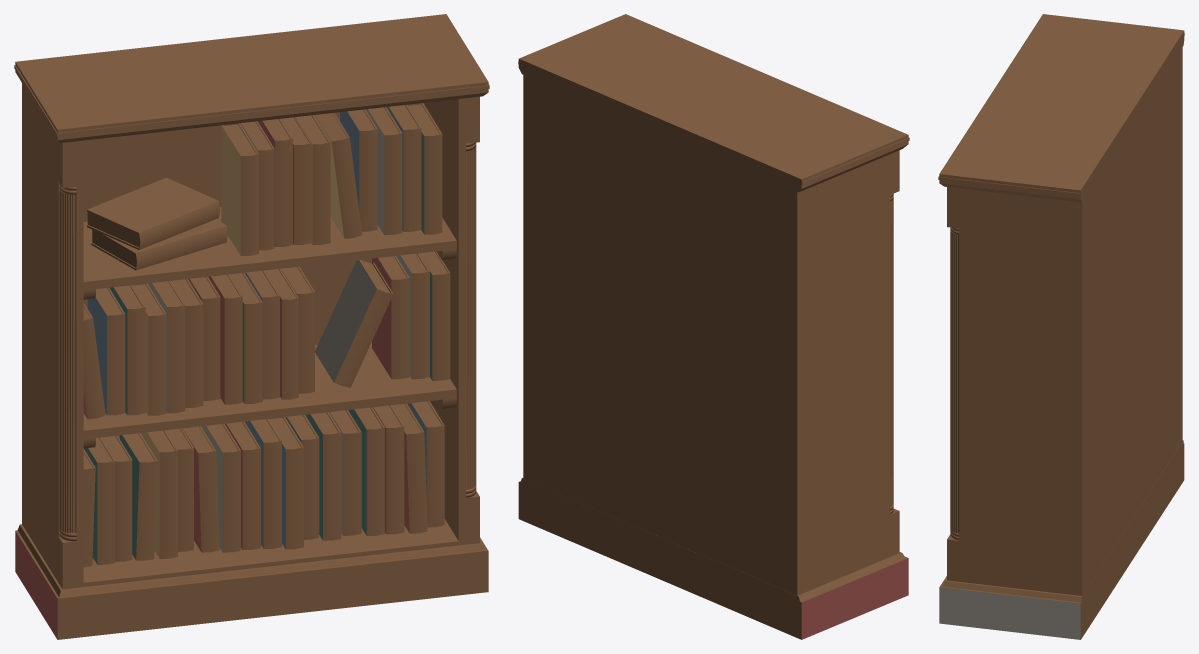
The model's file is ergoflex-small-bookshelf.glb.
The picture shows the model from 3 angles, left to right: view 1: azimuth 30°, elevation 25°; view 2: azimuth 150°, elevation 25°; view 3: azimuth 270°, elevation 25°; orthographic projection. The views are drawn at different scales.
Visible parts, largest first — view 1: Mesh_0, Mesh_0.005; view 2: Mesh_0, Mesh_0.005; view 3: Mesh_0, Mesh_0.005.
Boxes of the visible parts, x1,y1,x2,y2 form: Mesh_0: (14, 14, 489, 639); Mesh_0.005: (15, 107, 432, 639); Mesh_0: (518, 14, 909, 639); Mesh_0.005: (801, 558, 908, 639); Mesh_0: (938, 14, 1184, 639); Mesh_0.005: (939, 587, 1080, 639).
Bounding box in the file's own units: 1.01 × 1.2 × 0.5961.
2 materials, 2 textured.
